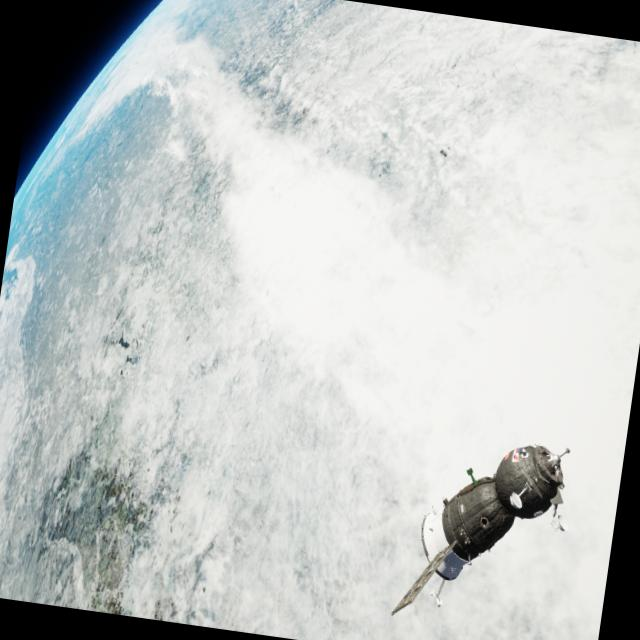Satellites revolving around earth: (388, 423, 578, 640)
